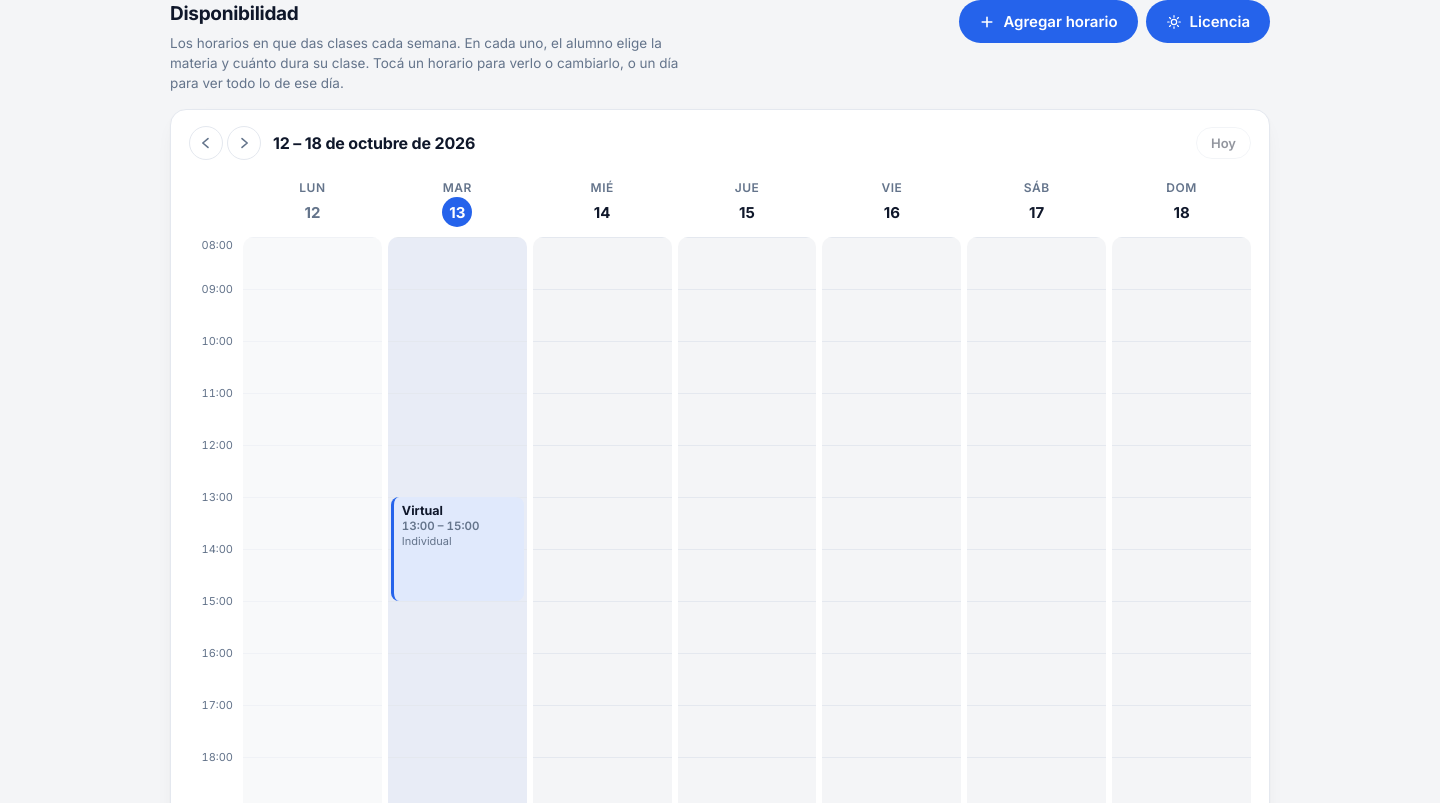
AvailabilityPage — vista de docente › la tarjeta dice qué materias puede elegir el alumno, con su tarifa
Click the button with aria-label "13:00 a 15:00" at (457, 549), box [391, 497, 524, 601]
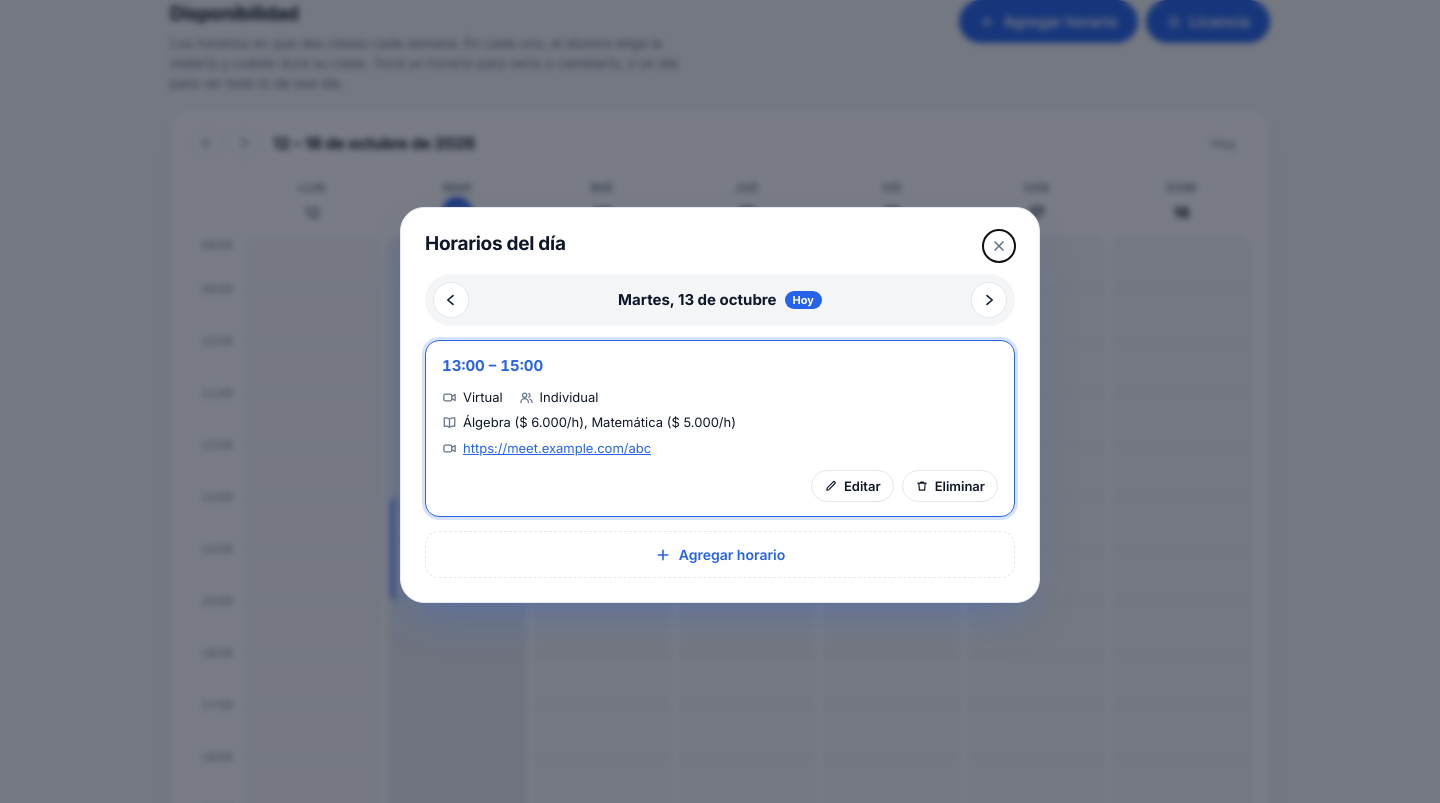
Now the text "13:00 – 15:00" is shown, box [442, 355, 543, 378]
Now the list item "Álgebra ($ 6.000/h), Matemática ($ 5.000/h)" is shown, box [442, 414, 736, 430]
Now the link "https://meet.example.com/abc" is shown, box [463, 438, 651, 458]
